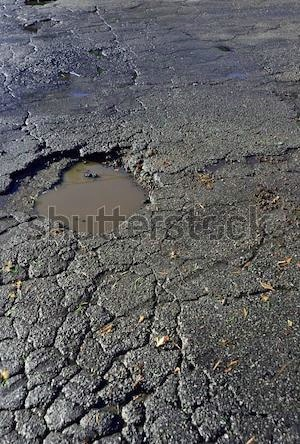pothole: (3, 136, 162, 237), (20, 16, 63, 32), (18, 0, 57, 6)
